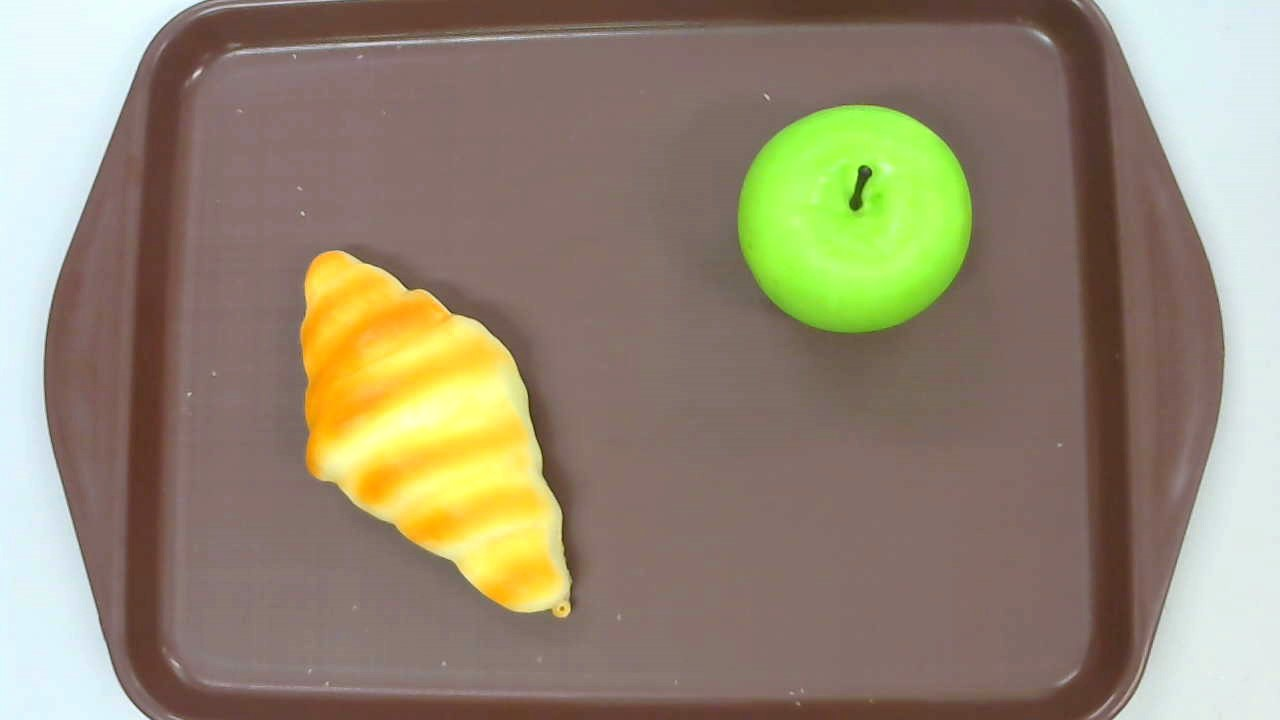croissant: (299, 250, 574, 616)
green apple: (736, 103, 971, 334)
